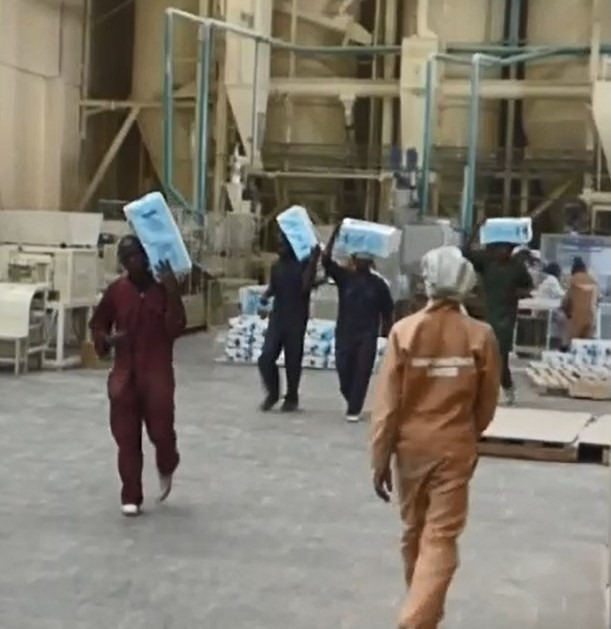wheat_flour_blue_label: (124, 191, 190, 281), (275, 207, 319, 251), (340, 217, 391, 251), (481, 217, 532, 247)
